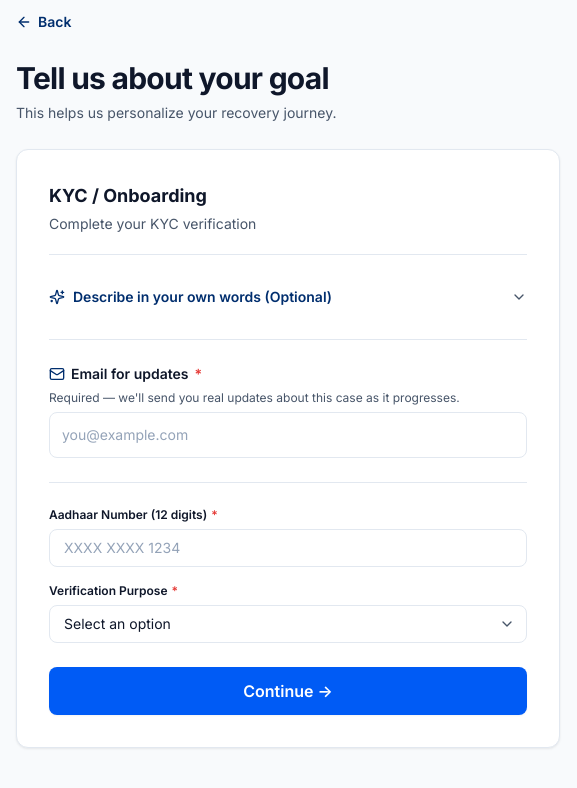
Test: Screen03GoalBasicInfo › rejects an invalid email and does not submit the journey
Expected: the field labelled "Aadhaar Number (12 digits)*" is shown, top-left (49, 529), bottom-right (527, 567)
Type "not-an-email" into the field labelled "Email for updates *" at (288, 435), box top-left (49, 412), bottom-right (527, 458)
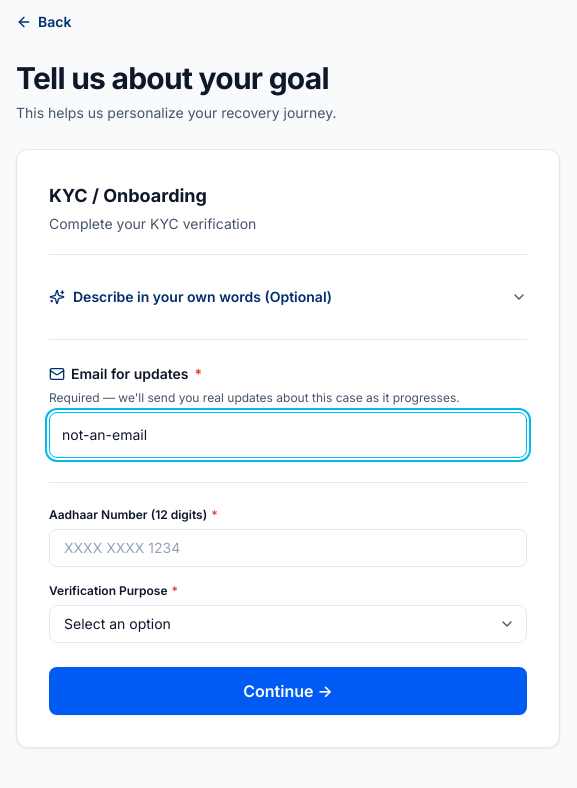
Type "1234 5678 9012" into the field labelled "Aadhaar Number (12 digits)*" at (288, 548), box top-left (49, 529), bottom-right (527, 567)
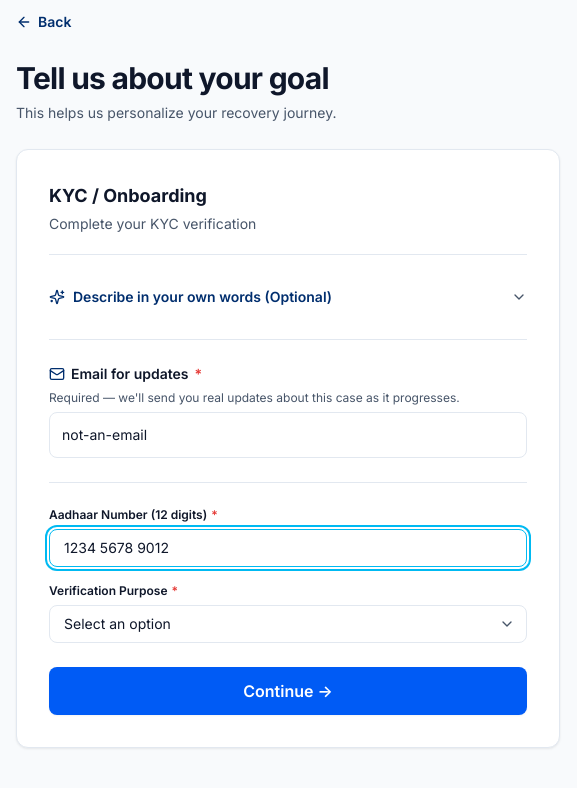
Select "Wallet Upgrade" in the dropdown labelled "Verification Purpose*" at (288, 624), box top-left (49, 605), bottom-right (527, 643)
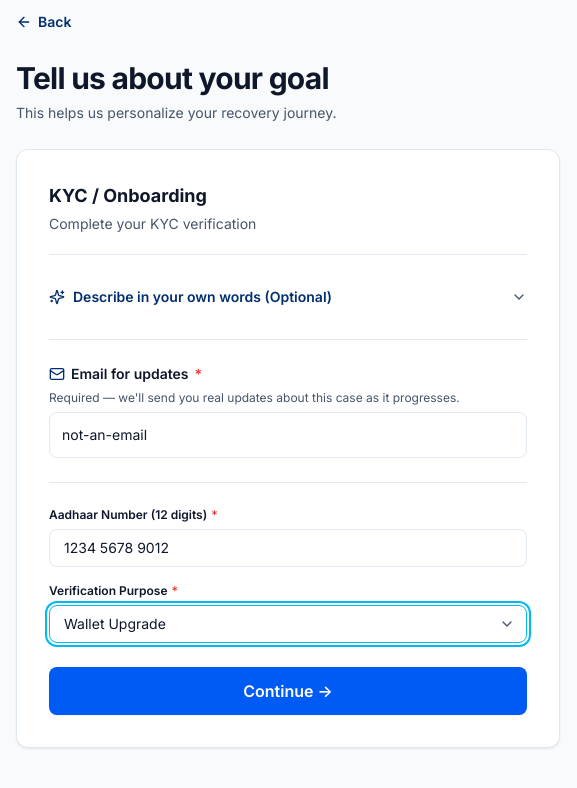
Click the button "Continue →" at (288, 691), box top-left (49, 667), bottom-right (527, 715)
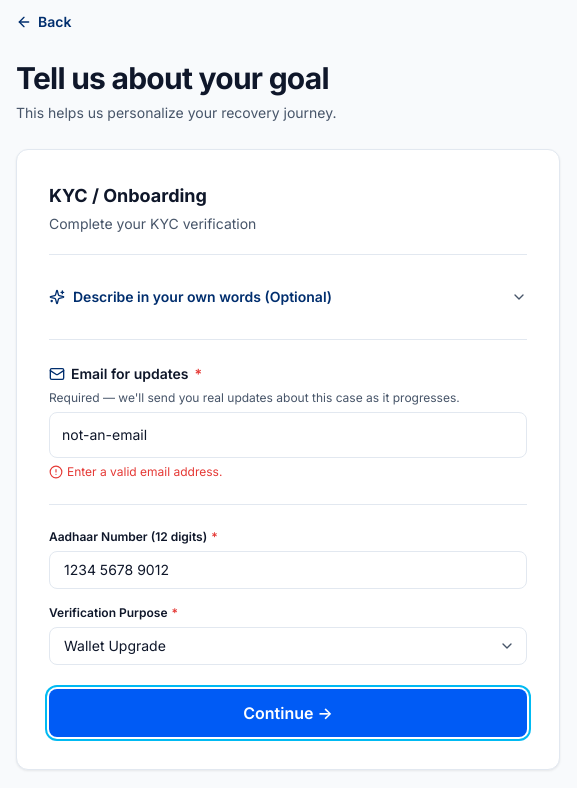
Expected: the text "Enter a valid email address." is shown, top-left (49, 464), bottom-right (222, 479)
